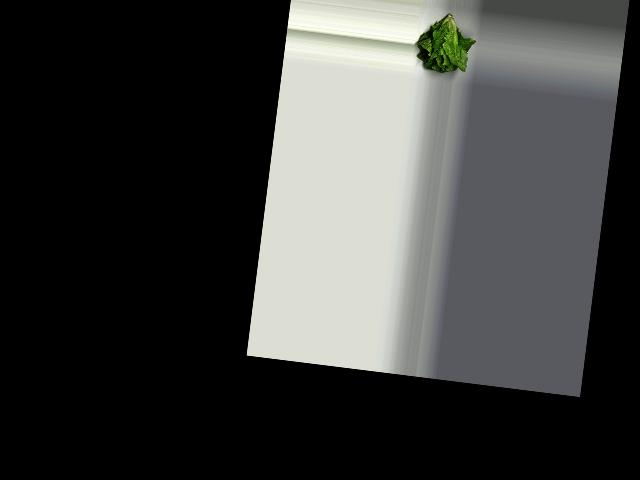lettuce: (414, 8, 473, 79)
